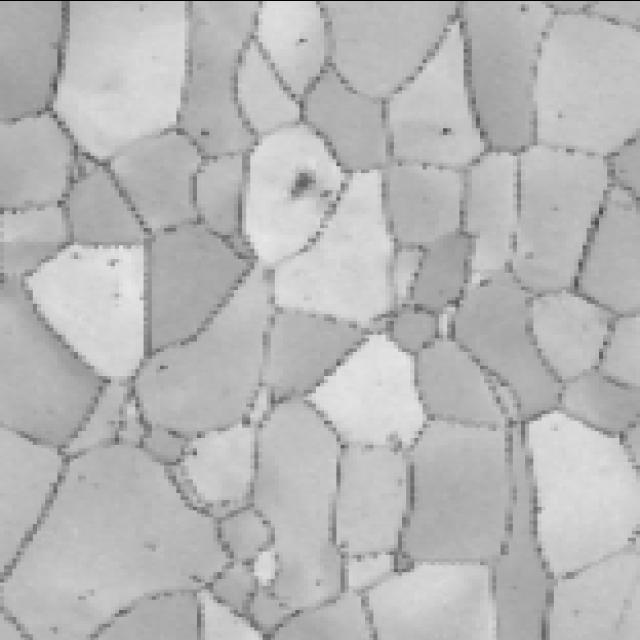good_void: (283, 170, 312, 199), (103, 255, 121, 267), (291, 32, 308, 44), (316, 186, 332, 198), (437, 124, 453, 135), (187, 444, 199, 456), (156, 362, 169, 372)
